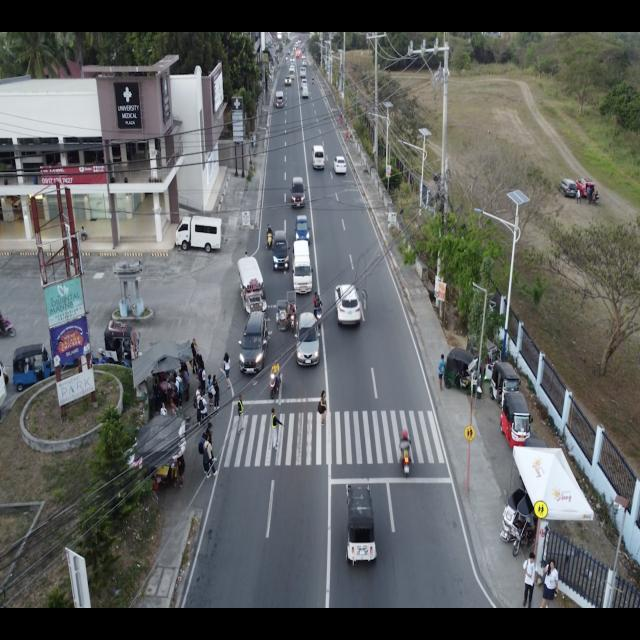car: (236, 253, 268, 320), (237, 309, 268, 377), (175, 214, 222, 254), (294, 310, 322, 369), (292, 239, 314, 296), (334, 284, 362, 328), (271, 229, 291, 272), (289, 175, 307, 209), (293, 212, 311, 242), (576, 177, 596, 200), (558, 178, 578, 200), (311, 144, 325, 170), (333, 155, 347, 175), (275, 90, 284, 108), (284, 75, 292, 87), (300, 78, 308, 90), (299, 66, 307, 78), (301, 87, 309, 98), (289, 68, 295, 80)
motorcycle: (398, 428, 414, 478), (269, 359, 281, 400), (313, 291, 324, 330), (266, 222, 274, 252), (312, 77, 314, 84)
person: (539, 559, 559, 609), (521, 550, 538, 608), (203, 434, 218, 480), (270, 406, 284, 452), (205, 421, 219, 463), (198, 432, 210, 476), (198, 391, 210, 428), (317, 390, 328, 429), (211, 373, 222, 411), (173, 372, 183, 411), (180, 368, 190, 404), (193, 384, 202, 424), (438, 353, 447, 392), (237, 394, 244, 436), (223, 352, 231, 388), (206, 373, 214, 407), (159, 400, 169, 418), (81, 226, 87, 242)
